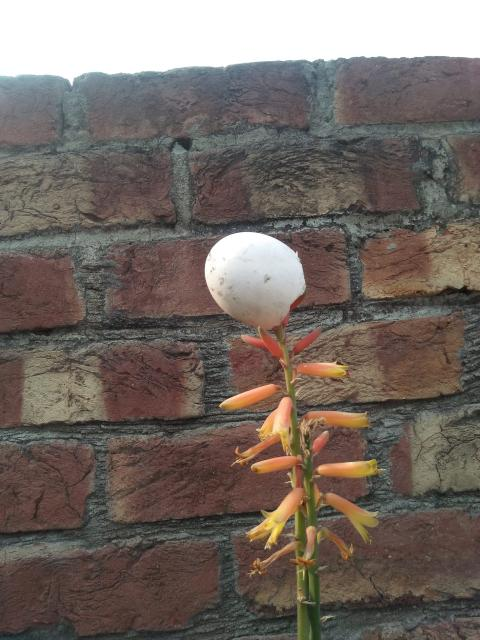Roto: (202, 230, 308, 331)
